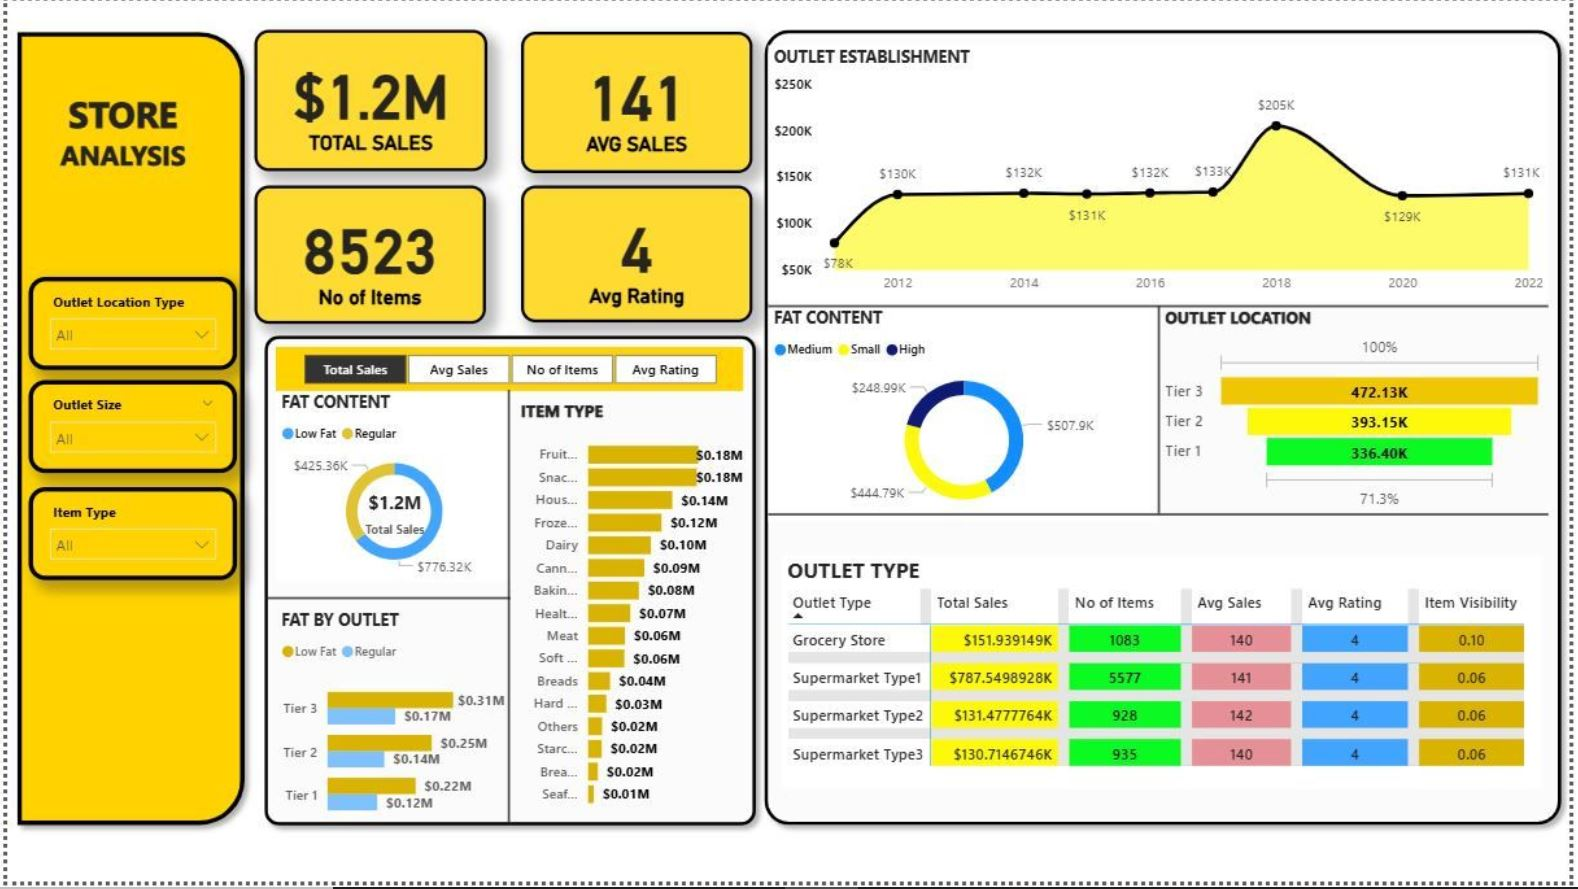

Layout of this report page (visuals, bound fields, positions):
{"tool":"powerbi","page":{"name":"Page 1","canvas":[1400,789],"ordinal":0},"visuals":[{"type":"shape","box":[0,18.3,221.7,728.3],"z":0},{"type":"textbox","box":[18.4,55.2,169.3,96.9],"z":1000},{"type":"card","fields":{"Values":["grocery data.Total Sales"]},"box":[222.2,25.9,208.6,126.8],"z":2000},{"type":"card","fields":{"Values":["grocery data.Avg Sales"]},"box":[460.8,27.3,207.2,126.8],"z":3000},{"type":"card","fields":{"Values":["grocery data.Avg Rating"]},"box":[460.8,166.3,207.2,122.7],"z":4000},{"type":"card","fields":{"Values":["grocery data.No of Items"]},"box":[222.2,166.3,207.2,124.1],"z":5000},{"type":"shape","box":[222.2,290.4,458.1,456.7],"z":6000},{"type":"donutChart","title":"FAT CONTENT","fields":{"Y":["grocery data.Total Sales"],"Category":["grocery data.Item Fat Content"]},"box":[239.9,349,211.3,170.4],"z":7000},{"type":"slicer","fields":{"Values":["Metrics.Metrics"]},"box":[241.3,309.5,418.5,39.5],"z":8000},{"type":"card","fields":{"Values":["grocery data.Total Sales"]},"box":[295.8,422.6,100.9,73.6],"z":9000},{"type":"clusteredBarChart","title":"FAT BY OUTLET","fields":{"Y":["grocery data.Total Sales"],"Category":["grocery data.Outlet Location Type"],"Series":["grocery data.Item Fat Content"]},"box":[239.9,544,210,203.1],"z":10000},{"type":"shape","box":[231.2,460,218.8,150],"z":11000},{"type":"shape","box":[340,348.8,218.8,387.5],"z":12000},{"type":"barChart","title":"ITEM TYPE","fields":{"Y":["grocery data.Total Sales"],"Category":["grocery data.Item Type"]},"box":[454.4,357.8,208.9,374.4],"z":13000},{"type":"shape","box":[668.6,17.1,731.4,730],"z":14000},{"type":"lineChart","title":"OUTLET ESTABLISHMENT","fields":{"Category":["grocery data.Outlet Establishment Year"],"Y":["grocery data.Total Sales"]},"box":[681.4,40,698.6,230],"z":15000},{"type":"donutChart","title":"FAT CONTENT","fields":{"Y":["grocery data.Total Sales"],"Category":["grocery data.Outlet Size"]},"box":[681.4,274.3,350,192.9],"z":16000},{"type":"shape","box":[681.4,198.6,698.6,150],"z":17000},{"type":"shape","box":[681.4,385.7,698.6,150],"z":18000},{"type":"shape","box":[921.4,274.3,218.6,185.7],"z":19000},{"type":"funnel","title":"OUTLET LOCATION","fields":{"Y":["Sum(grocery data.Sales)"],"Category":["grocery data.Outlet Location Type"]},"box":[1031.4,274.3,348.6,185.7],"z":20000},{"type":"pivotTable","title":"OUTLET TYPE","fields":{"Rows":["grocery data.Outlet Type"],"Values":["grocery data.Total Sales","grocery data.No of Items","grocery data.Avg Sales","grocery data.Avg Rating","Avg(grocery data.Item Visibility)"]},"box":[694.3,497.1,680,208.6],"z":21000},{"type":"slicer","fields":{"Values":["grocery data.Outlet Location Type"]},"box":[18.3,246.7,186.7,83.3],"z":21001},{"type":"slicer","fields":{"Values":["grocery data.Outlet Size"]},"box":[18.3,340,186.7,83.3],"z":21002},{"type":"slicer","fields":{"Values":["grocery data.Item Type"]},"box":[18.3,435,186.7,83.3],"z":21003}]}

Visuals, with their boxes in screenshot pixels (x1, y1, x2, y2), scaled from the page's 1400x789 canvas onto the 1578x889 screenshot:
shape: [0, 21, 250, 841]
textbox: [21, 62, 212, 171]
card - grocery data.Total Sales: [250, 29, 486, 172]
card - grocery data.Avg Sales: [519, 31, 753, 174]
card - grocery data.Avg Rating: [519, 187, 753, 326]
card - grocery data.No of Items: [250, 187, 484, 327]
shape: [250, 327, 767, 842]
"FAT CONTENT" donutChart: [270, 393, 509, 585]
slicer - Metrics.Metrics: [272, 349, 744, 393]
card - grocery data.Total Sales: [333, 476, 447, 559]
"FAT BY OUTLET" clusteredBarChart: [270, 613, 507, 842]
shape: [261, 518, 507, 687]
shape: [383, 393, 630, 830]
"ITEM TYPE" barChart: [512, 403, 748, 825]
shape: [754, 19, 1577, 842]
"OUTLET ESTABLISHMENT" lineChart: [768, 45, 1555, 304]
"FAT CONTENT" donutChart: [768, 309, 1163, 526]
shape: [768, 224, 1555, 393]
shape: [768, 435, 1555, 604]
shape: [1039, 309, 1285, 518]
"OUTLET LOCATION" funnel: [1163, 309, 1555, 518]
"OUTLET TYPE" pivotTable: [783, 560, 1549, 795]
slicer - grocery data.Outlet Location Type: [21, 278, 231, 372]
slicer - grocery data.Outlet Size: [21, 383, 231, 477]
slicer - grocery data.Item Type: [21, 490, 231, 584]
